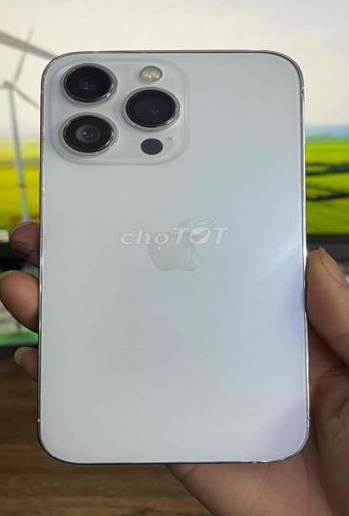scratch: (238, 390, 324, 472)
